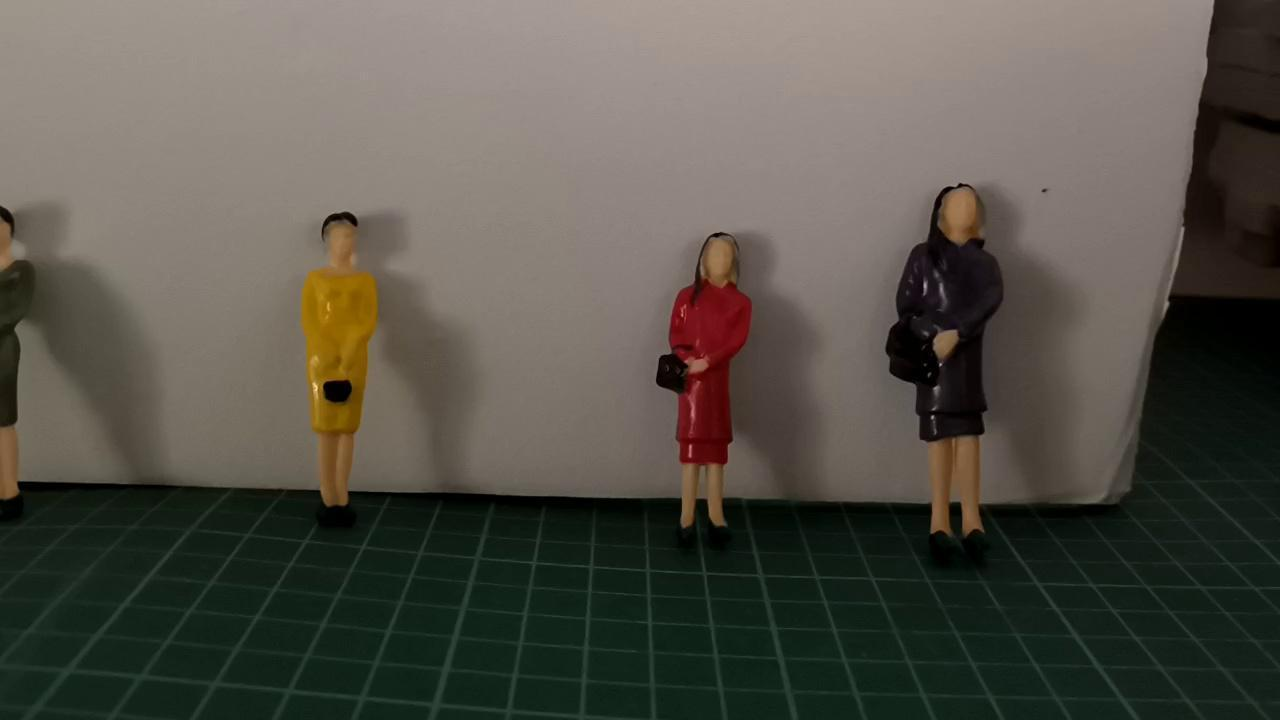human: (877, 173, 1022, 568), (648, 217, 758, 548), (290, 207, 391, 544)
